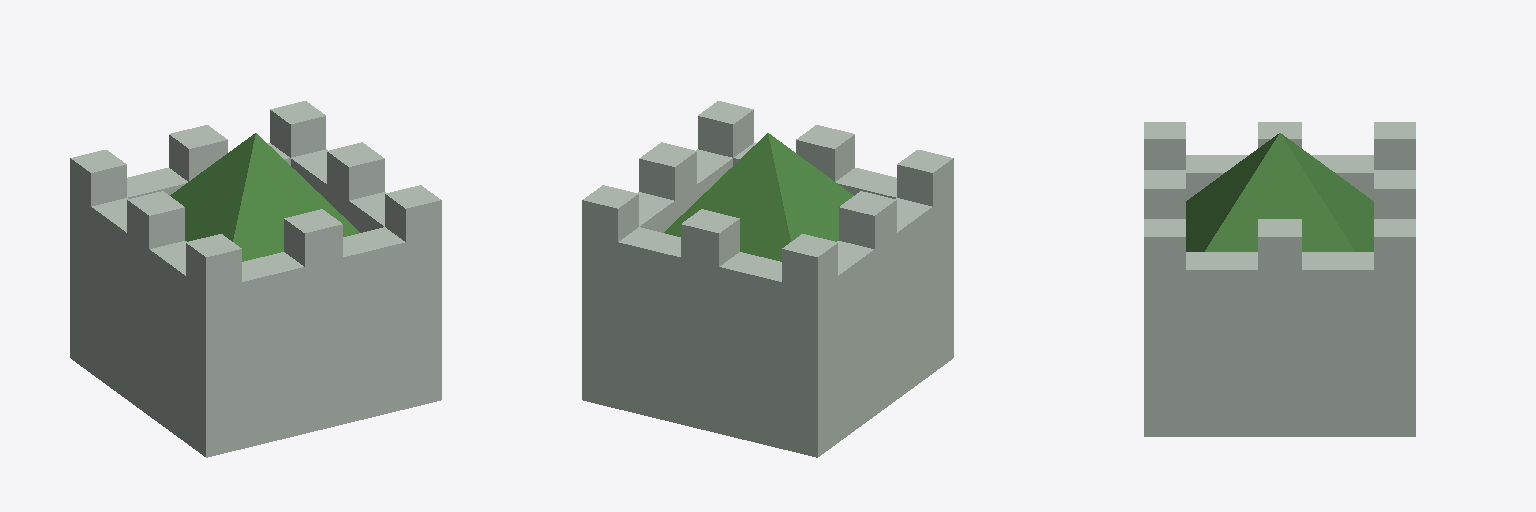
File: tile_027.obj
3 views of the same model, side by side, from view 1: azimuth 30°, elevation 25°; view 2: azimuth 150°, elevation 25°; view 3: azimuth 270°, elevation 25° (orthographic).
Parts seen in each view (by area): view 1: tile_027, Group; view 2: tile_027, Group; view 3: tile_027, Group.
Boxes of the visible parts, x1=… form: tile_027: x1=70, y1=101, x2=441, y2=457; Group: x1=170, y1=133, x2=359, y2=261; tile_027: x1=582, y1=101, x2=953, y2=457; Group: x1=664, y1=133, x2=853, y2=261; tile_027: x1=1144, y1=122, x2=1415, y2=436; Group: x1=1186, y1=133, x2=1373, y2=251.
Bounding box in the file's own units: 0.5901 × 0.5914 × 0.5901.